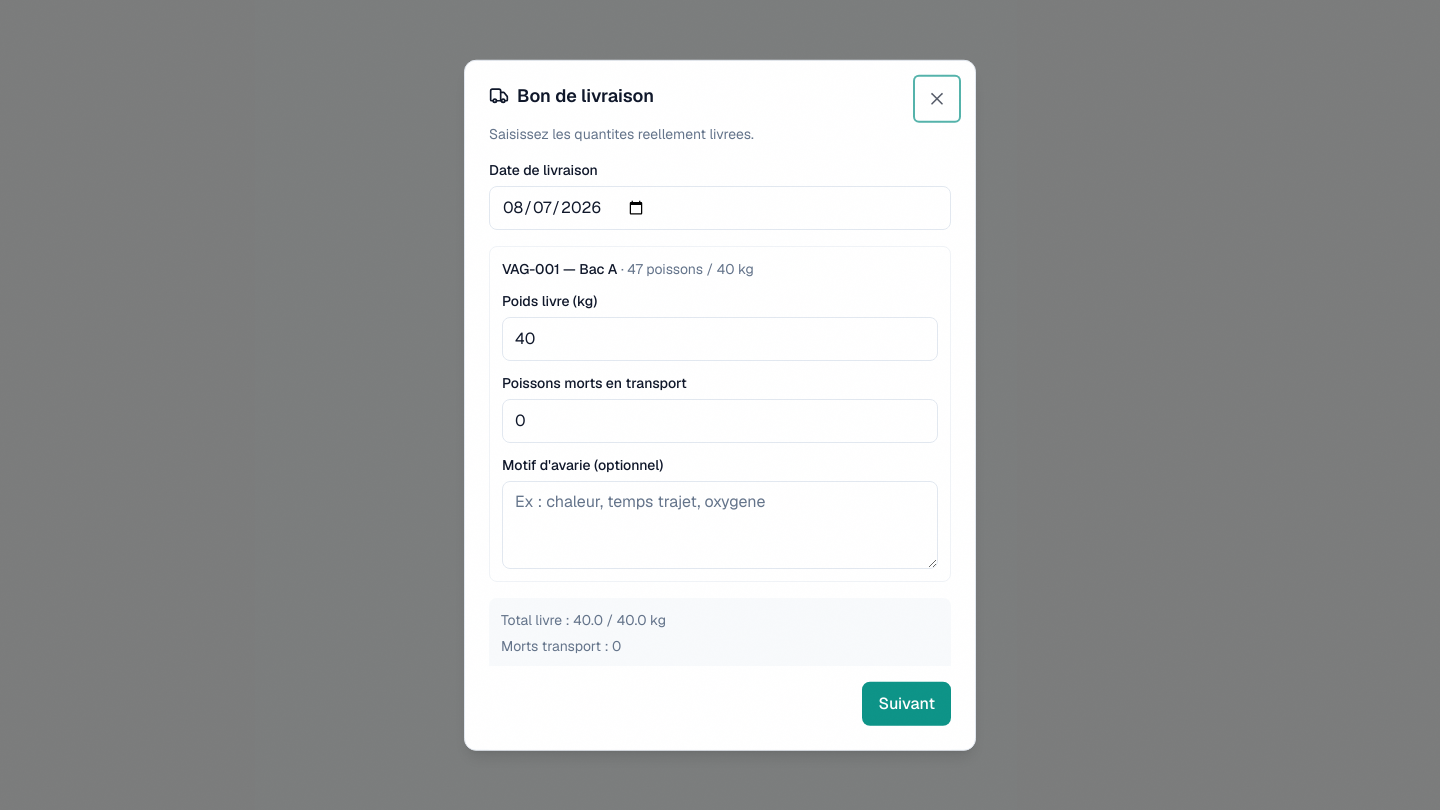
Test: BonLivraisonFlow — Etape quantites › appelle enregistrerQuantitesBonLivraison au clic sur Suivant, puis affiche le recap
Click the button "Suivant".
click(907, 703)  # box [862, 681, 951, 725]
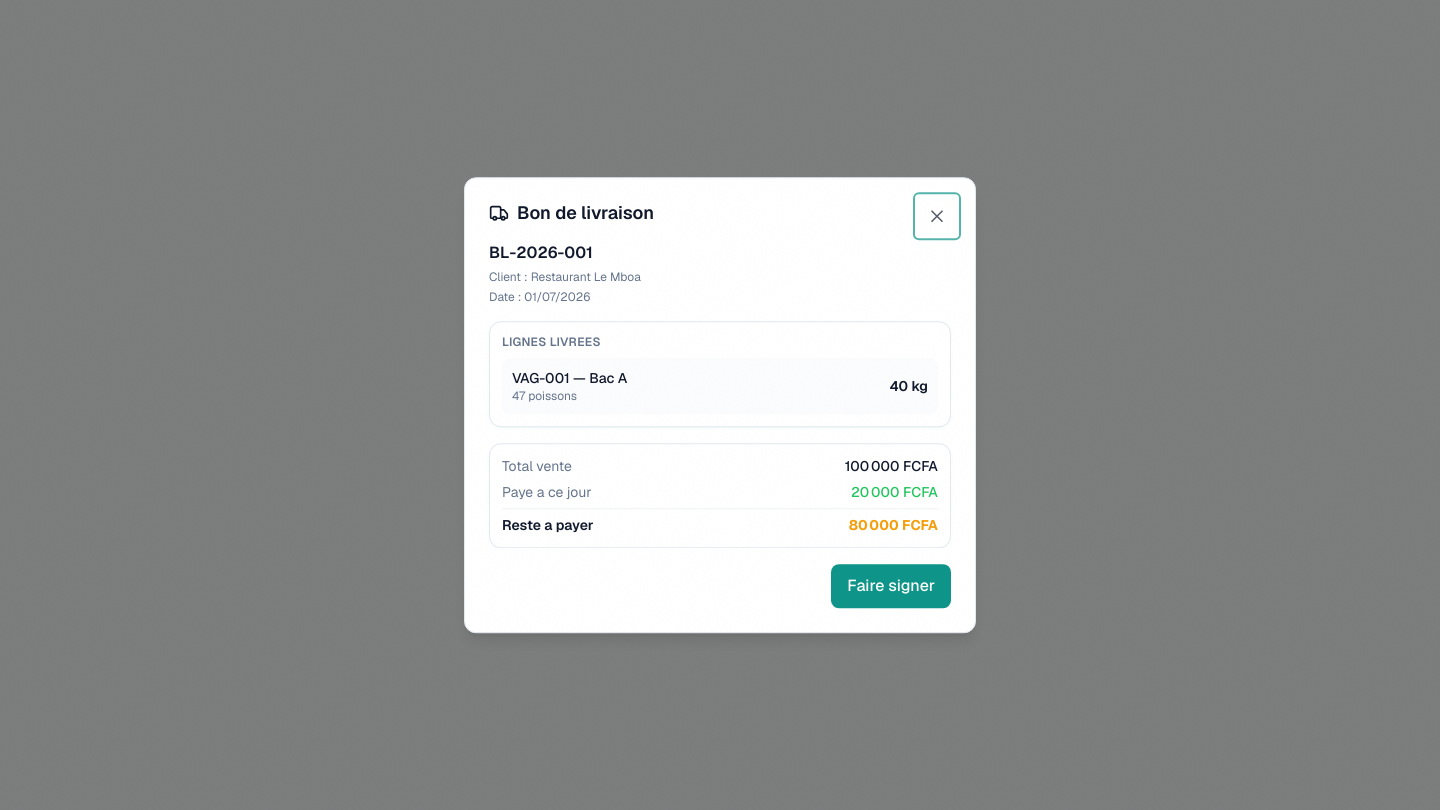
Now the text "BL-2026-001" is shown, box [489, 242, 593, 263]
